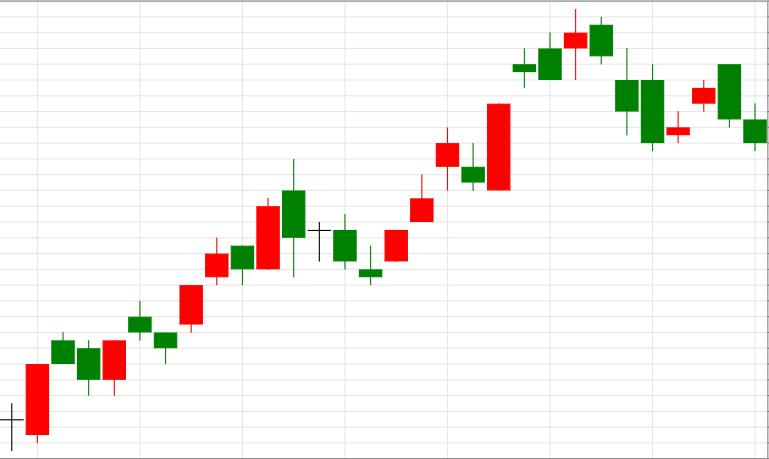morning_star_rise: (282, 159, 407, 285)
three_white_soldiers_rise: (282, 126, 459, 285)
